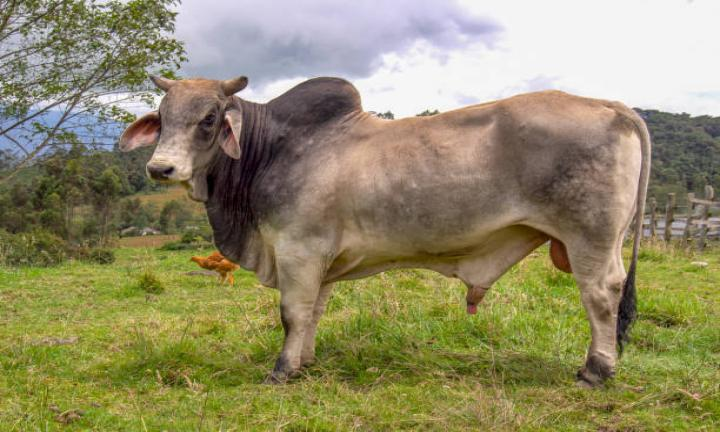Brahman: (120, 76, 649, 386)
